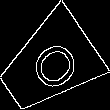O_SW: (17, 33, 79, 97)
